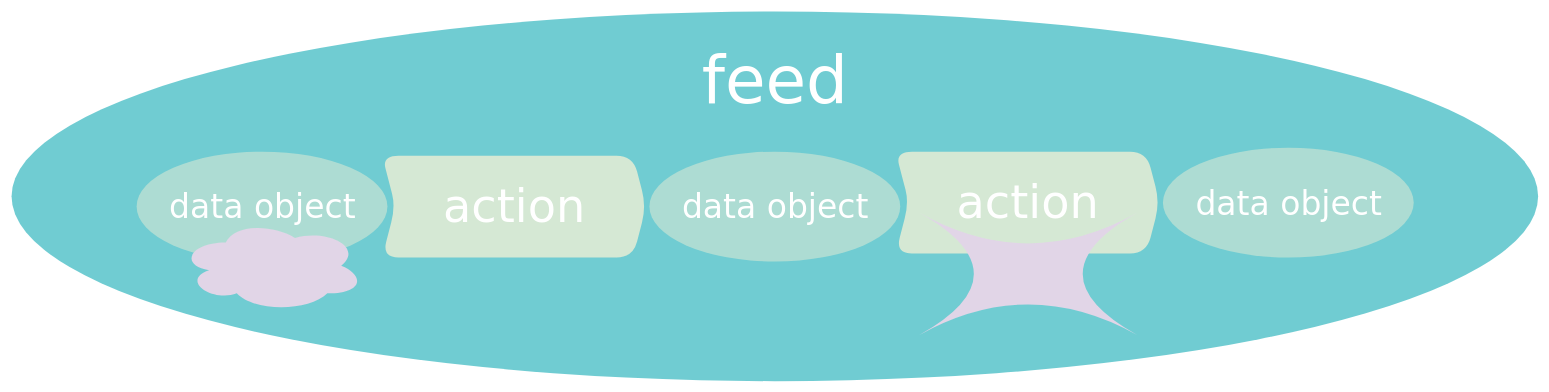
Image size: 1549x392. Some labels were removed from this diagram. Here are the shapes that lost their labels. From the top down, the centre of each, then its label:
At pixel 271 265: "connection".
At pixel 1028 274: "trans- former".
